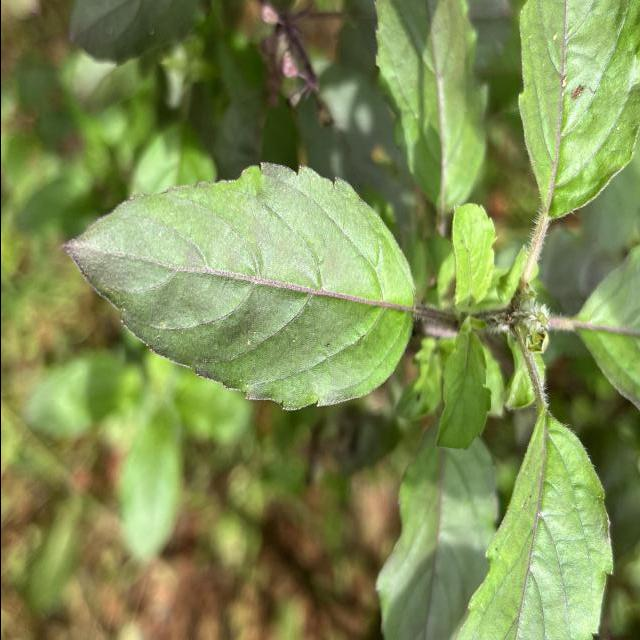Ocimum tenuiflorum: (54, 156, 422, 417)
